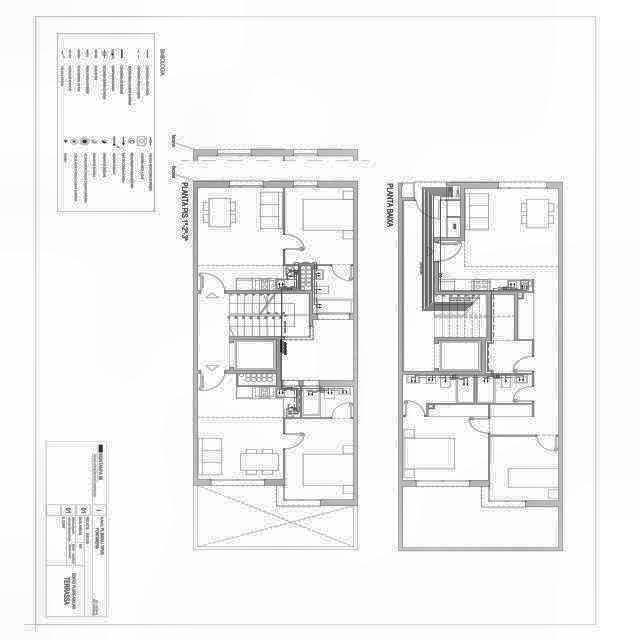room: (439, 188, 559, 435), (198, 373, 301, 480), (197, 187, 299, 290), (403, 486, 559, 548), (403, 404, 488, 480), (285, 419, 354, 500), (285, 188, 354, 265), (490, 436, 559, 501), (281, 320, 354, 381), (485, 295, 532, 373), (230, 294, 309, 336), (197, 294, 230, 370), (403, 374, 453, 415), (313, 266, 354, 313), (476, 375, 532, 403), (439, 341, 481, 371), (237, 342, 274, 368), (321, 387, 353, 417), (456, 375, 474, 403), (238, 373, 276, 385), (303, 389, 319, 414), (301, 266, 311, 290)
